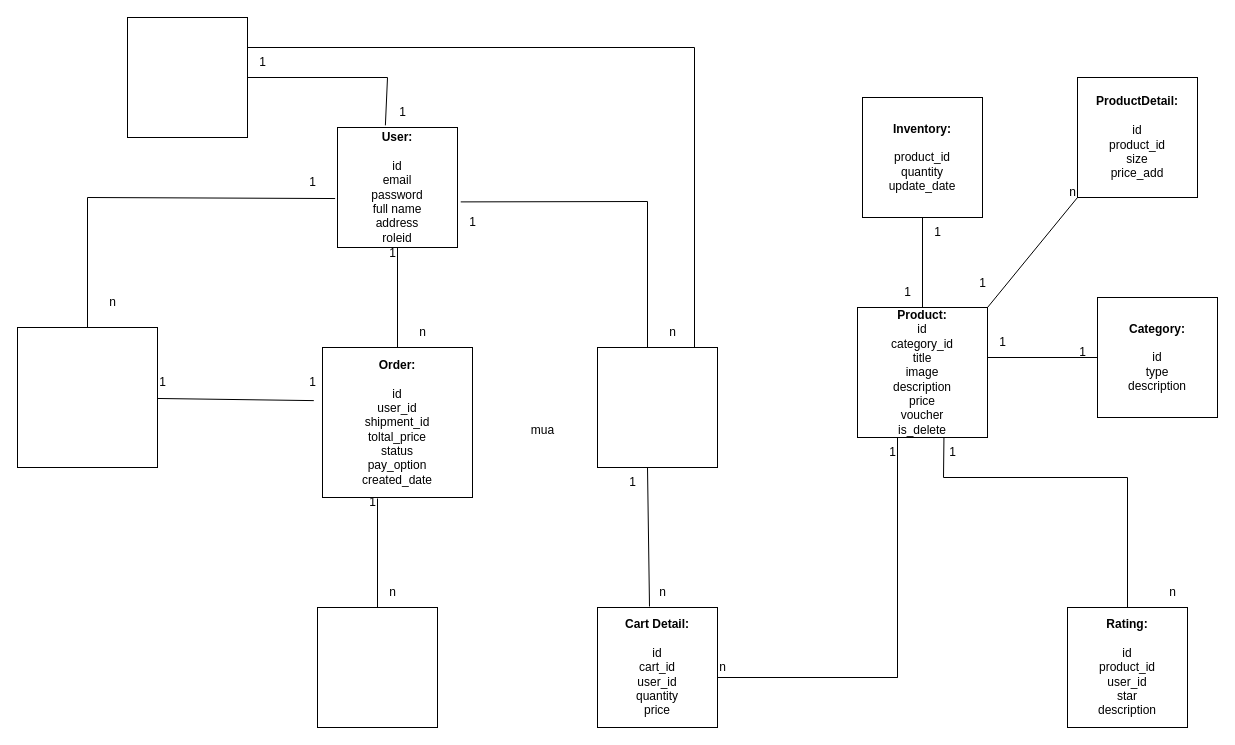
Image size: 1235x745. Some labels were removed from this diagram. Each missing label, with the centre of its shape:
"Cart: id user_id toltal_price created_date" goes at (x=657, y=407).
"Order Detail: id order_id product_id quantity price" goes at (x=377, y=667).
"Role: role_id name" goes at (x=187, y=77).
"Shipment: id order_id shipper_id (user có role shipper) update_date" goes at (x=87, y=397).
